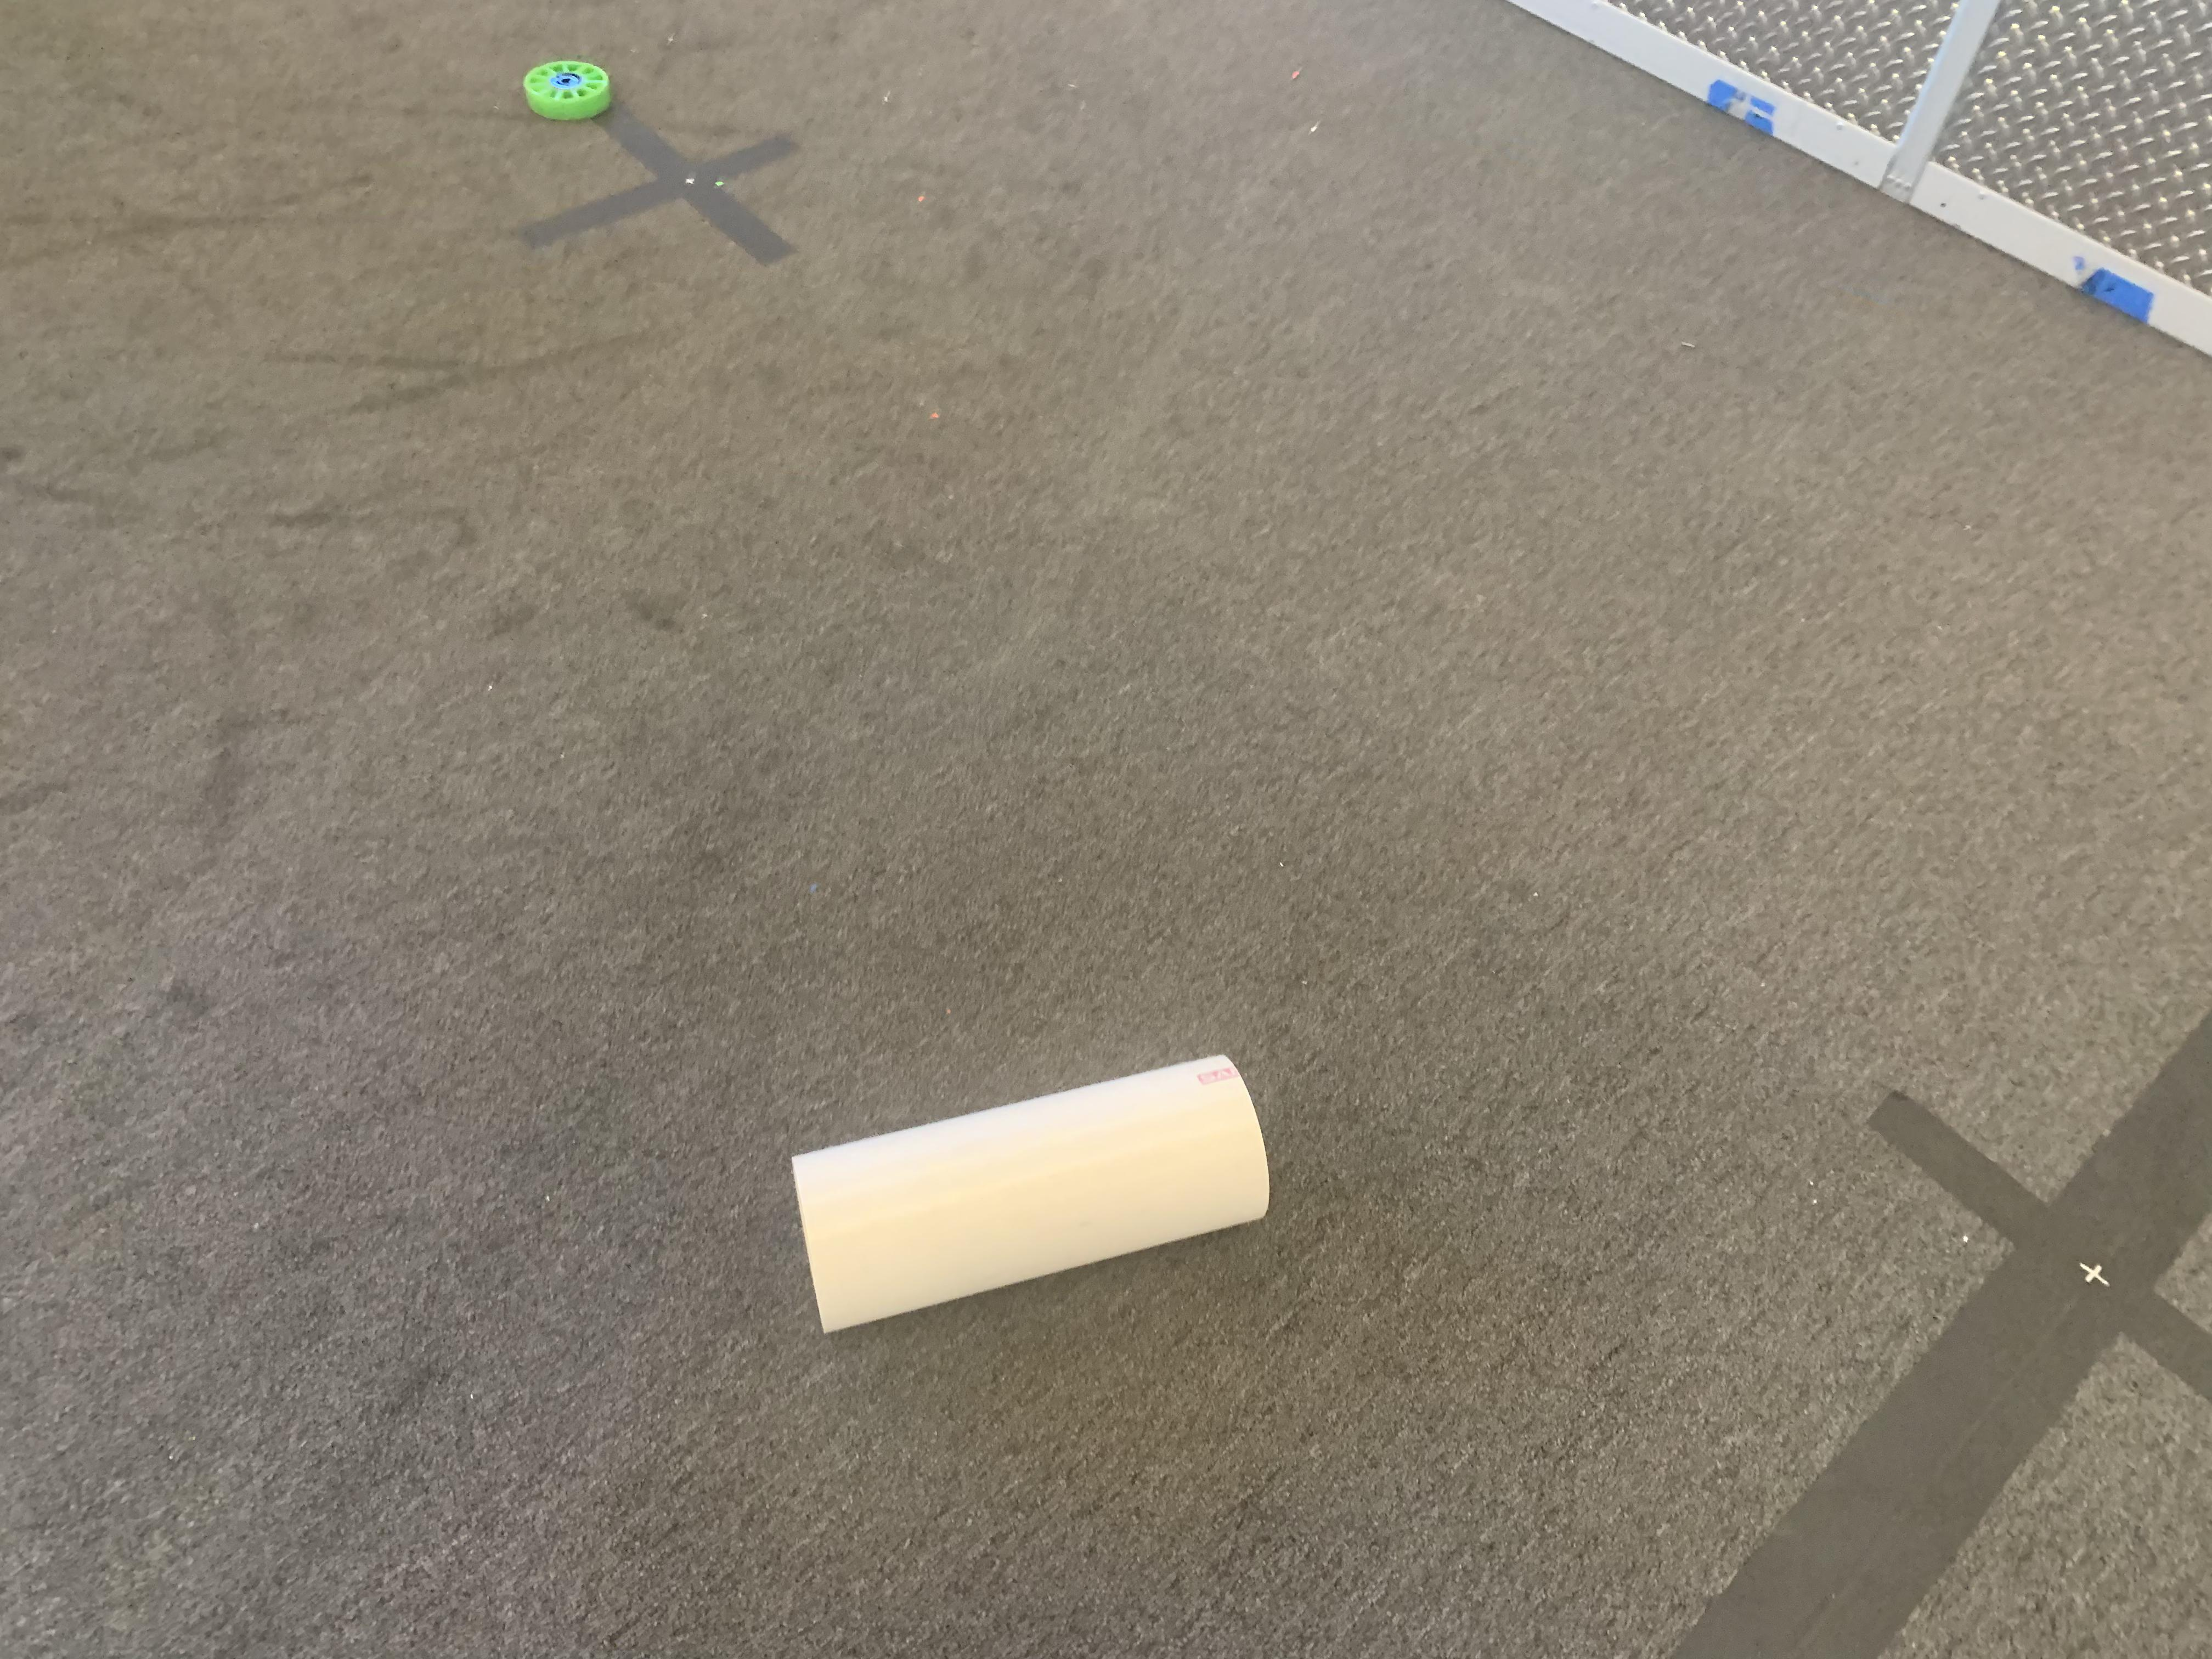coral: (786, 1051, 1273, 1337)
